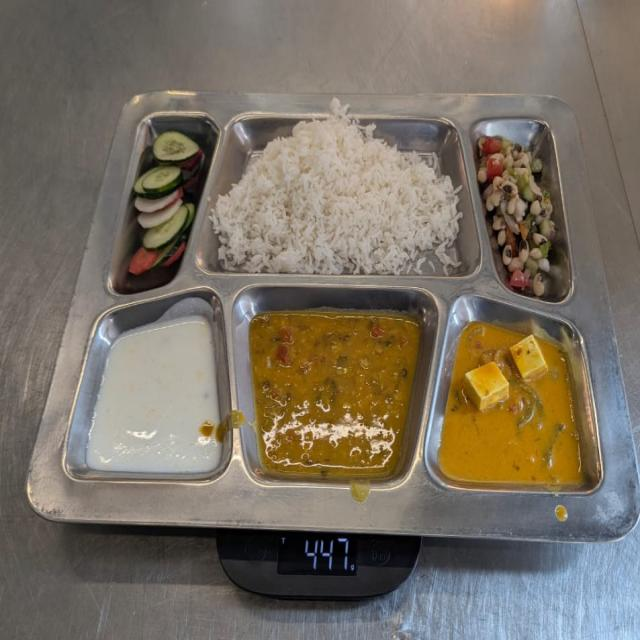Chaat: (473, 124, 564, 298)
Dal: (246, 302, 420, 478)
Paneer Curry: (439, 314, 588, 493)
Raita: (85, 310, 224, 480)
Salad: (128, 125, 206, 274)
White Rice: (212, 110, 466, 282)
